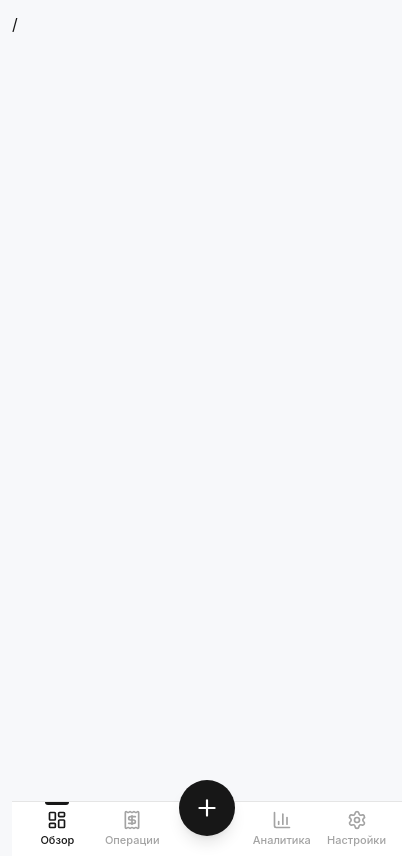
Test: tab switches › navigates on tap, without any View Transition (it froze input for ~400 ms)
Step 1. Click the link "Аналитика" → {"x": 282, "y": 828}, box 253,810 -> 311,846
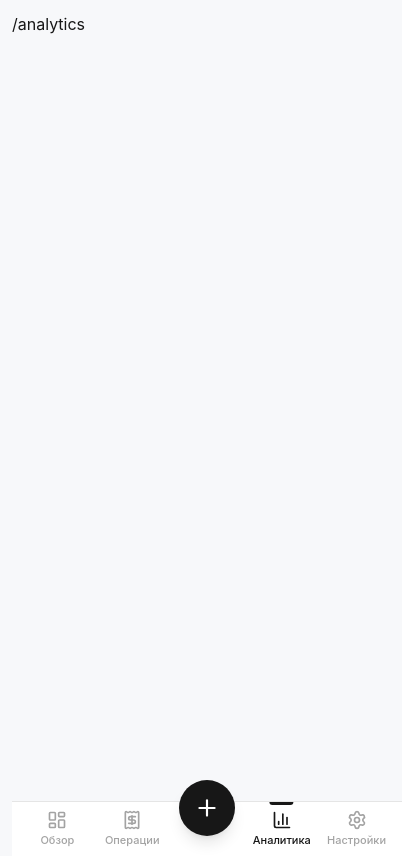
Result: the text with test id "where" reads "/analytics" at 12,14 -> 85,34
